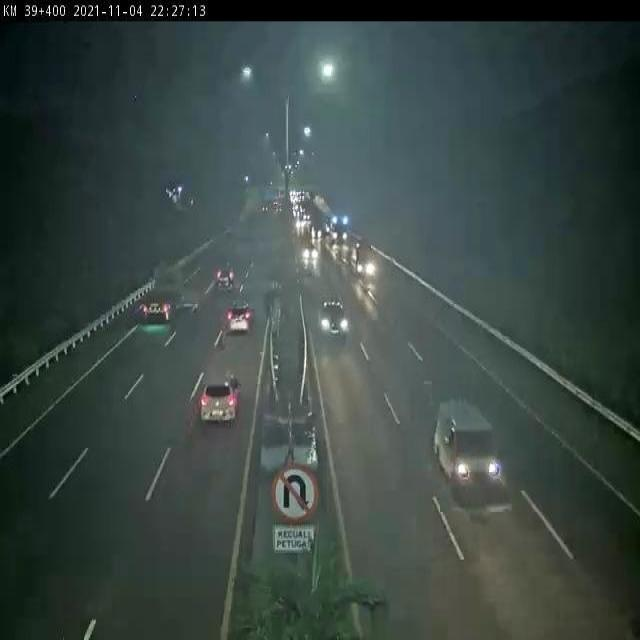Car: (200, 375, 244, 425), (316, 297, 349, 342), (227, 302, 253, 336), (215, 267, 234, 290), (301, 243, 319, 261), (215, 339, 238, 340)
Truck: (136, 263, 183, 323), (327, 211, 349, 241)
Van: (434, 401, 499, 498)
